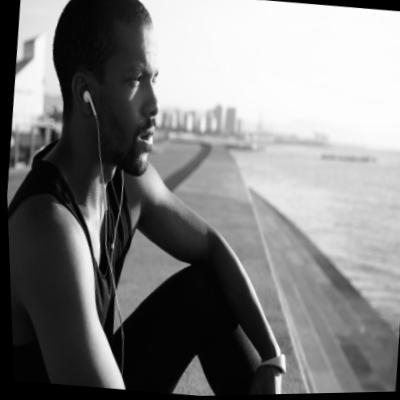netural: (84, 10, 170, 180)
